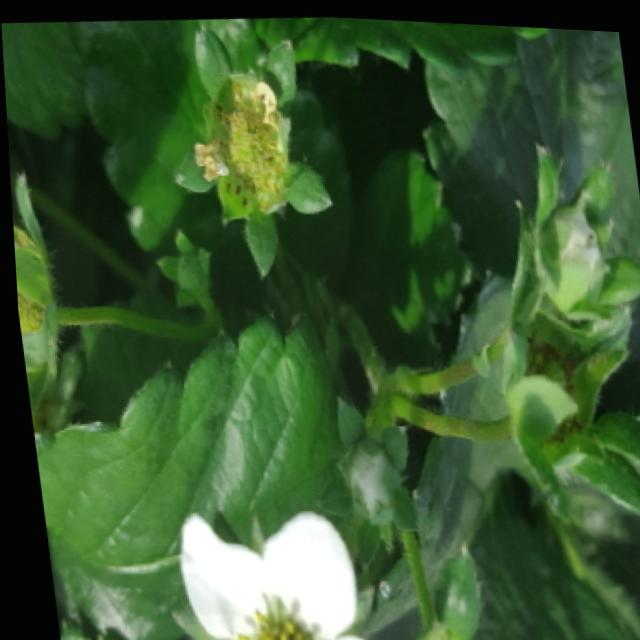Blossom Blight: (187, 67, 291, 207)
